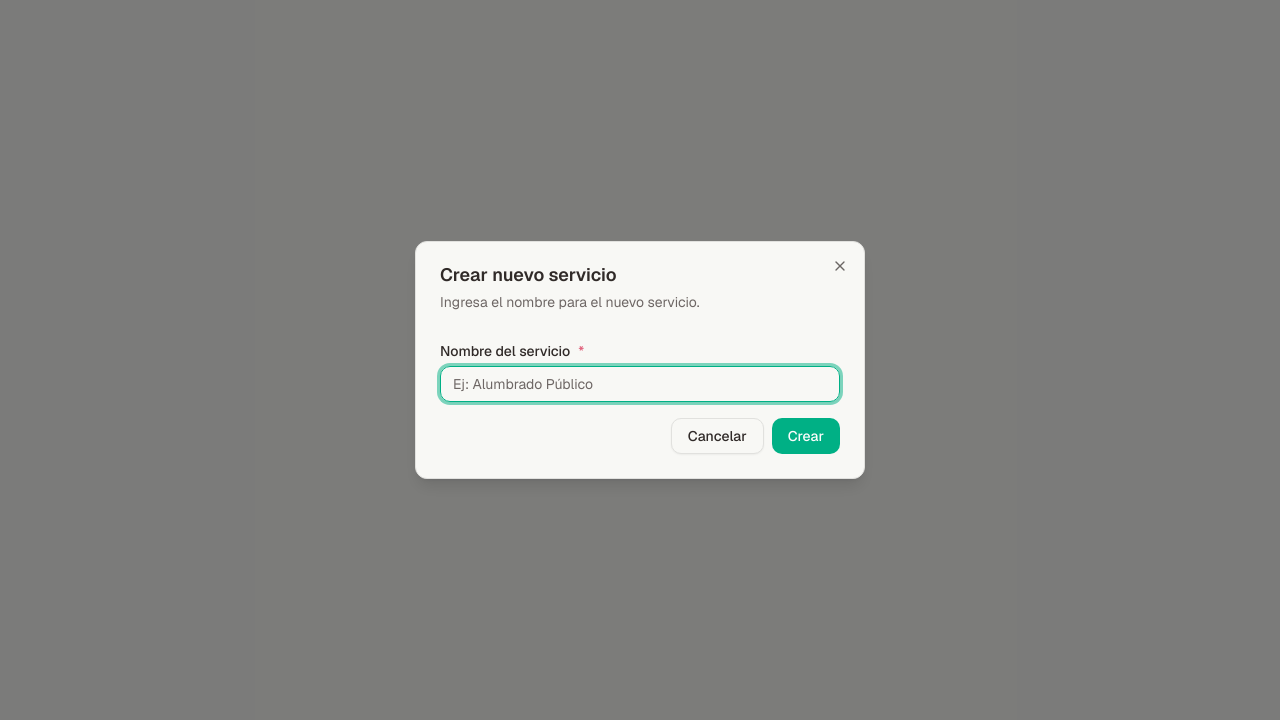
Test case: ServiceForm › should display error message on failed submission
In the field labelled "Nombre del servicio *": [640, 384] box x1=440 y1=366 x2=840 y2=402, type "Duplicate Service"
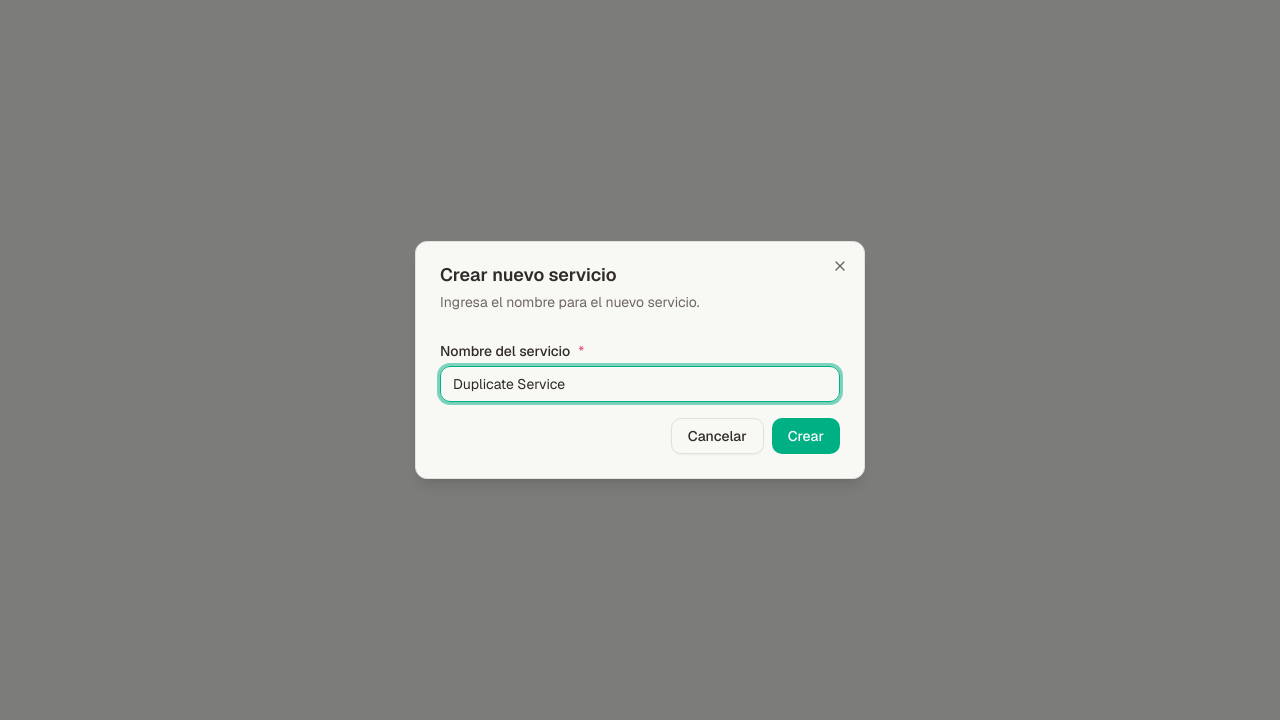
Click the button "Crear": [806, 436] box x1=772 y1=418 x2=840 y2=454
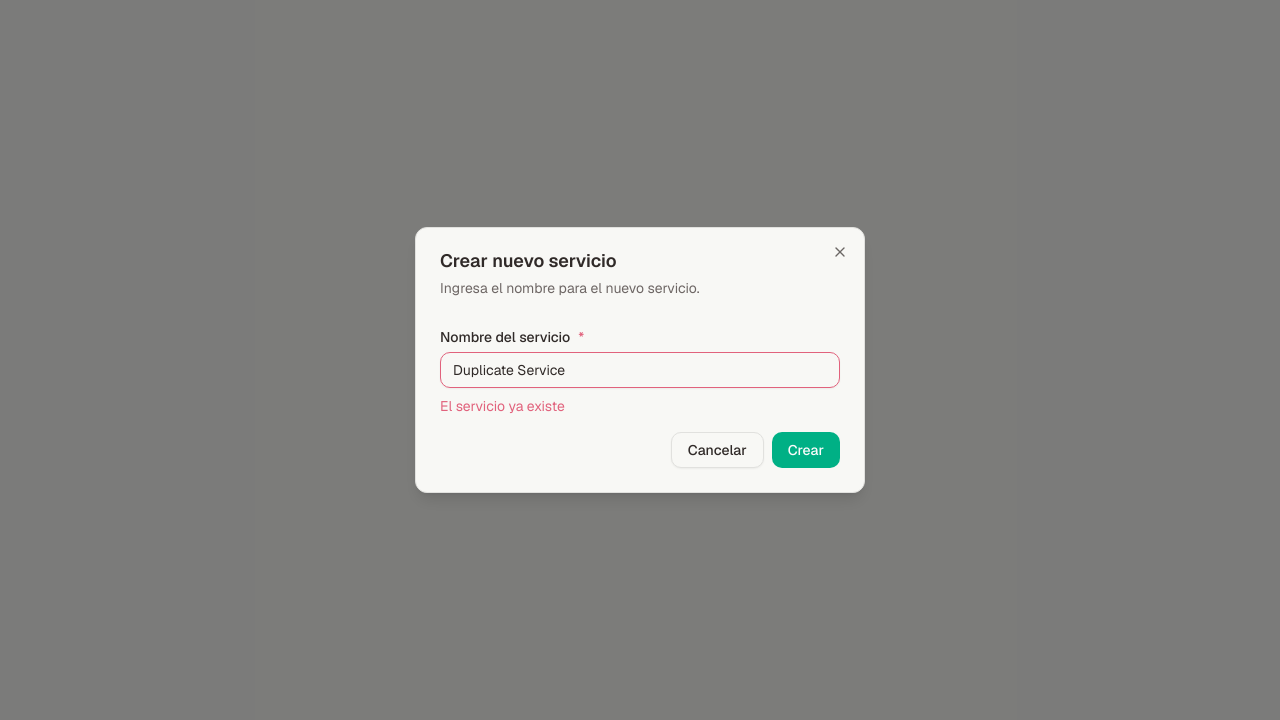
Result: the text "El servicio ya existe" is shown at x1=440 y1=397 x2=565 y2=415
